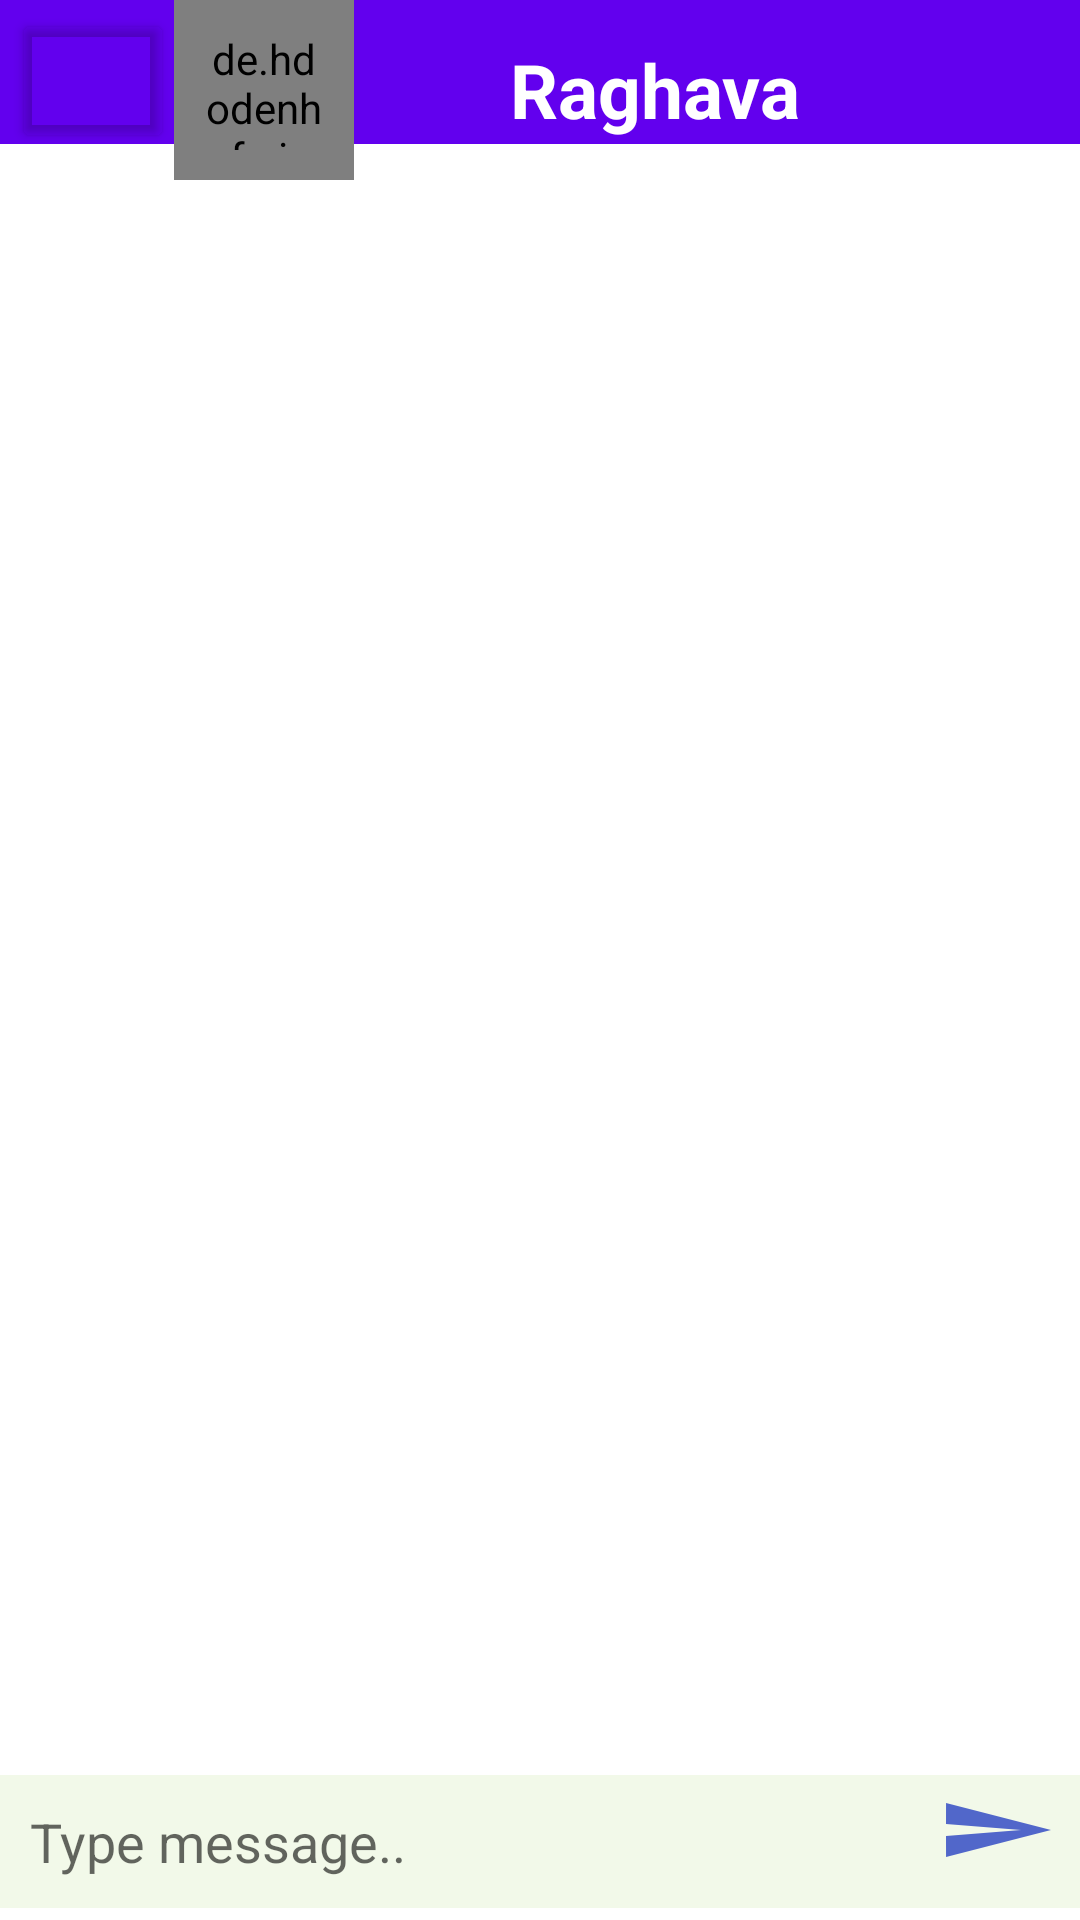

Screen size 1080 × 1920. Icon name, then its box in pixels as (x1, y1, x2, y2):
send grp: (946, 1803, 1050, 1857)
